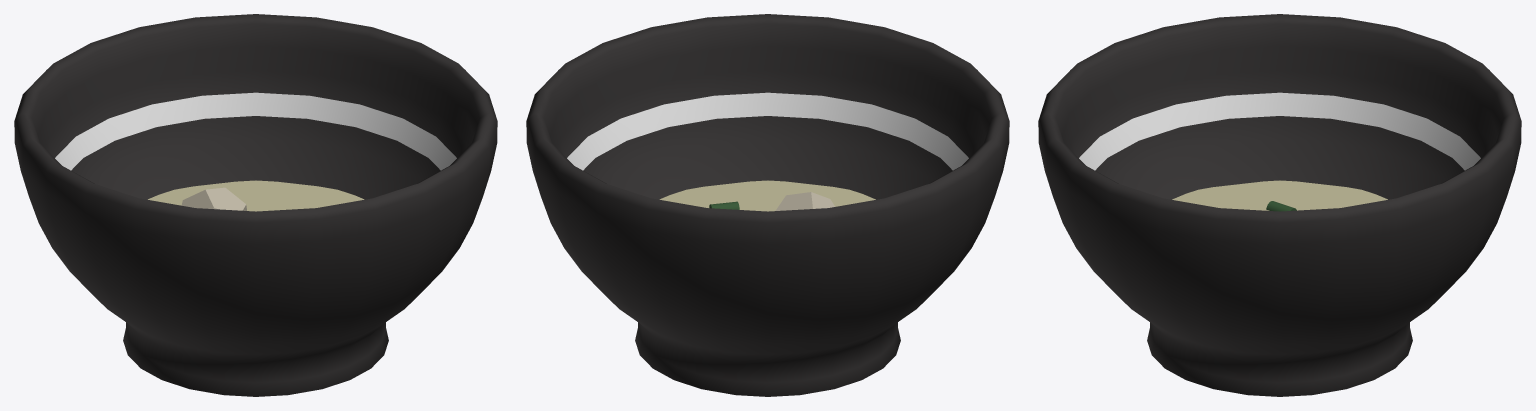
File: Rice_Gruel_2_4.fbx
The picture shows the model from 3 angles, left to right: view 1: azimuth 30°, elevation 25°; view 2: azimuth 150°, elevation 25°; view 3: azimuth 270°, elevation 25°; orthographic projection.
Visible parts, largest first — view 1: pPlatonic7; view 2: pPlatonic7; view 3: pPlatonic7.
Part boxes in pixels (<box>): pPlatonic7: <box>14,14,497,396</box>; pPlatonic7: <box>526,14,1009,396</box>; pPlatonic7: <box>1038,14,1521,396</box>.
Bounding box in the file's own units: 2.11 × 1.12 × 2.11.
